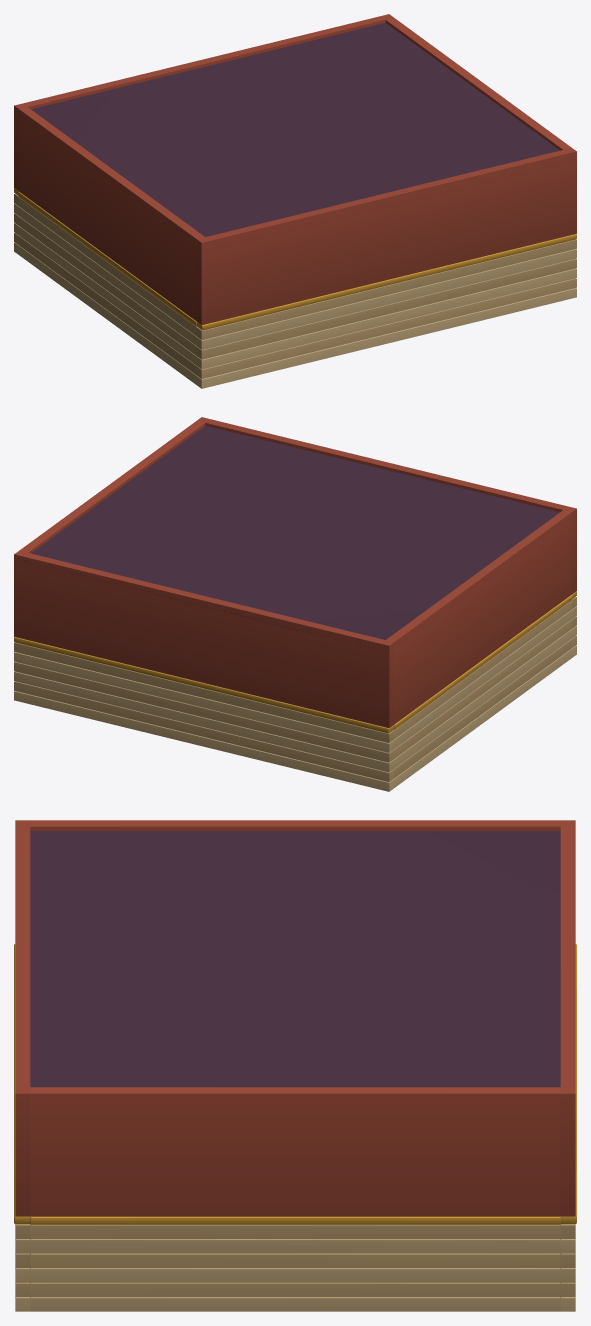
File: garage.glb
3 renders of one model, top to bottom at view 1: azimuth 30°, elevation 25°; view 2: azimuth 150°, elevation 25°; view 3: azimuth 270°, elevation 25°, orthographic. The views are drawn at different scales.
Visible parts, largest first — view 1: Set_Room; view 2: Set_Room; view 3: Set_Room.
Boxes of the visible parts, x1,y1,x2,y2 form: Set_Room: (14, 14, 576, 388); Set_Room: (14, 417, 576, 791); Set_Room: (14, 820, 576, 1311).
Size of what is drawn, in the model's own units: 26.32 by 10.7 by 22.82.
